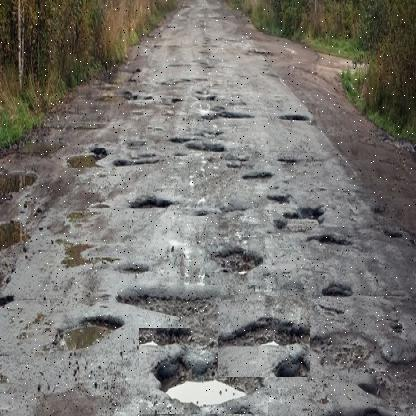pothole: (218, 295, 311, 378), (205, 237, 264, 286)
pothole_water: (139, 328, 269, 415)
